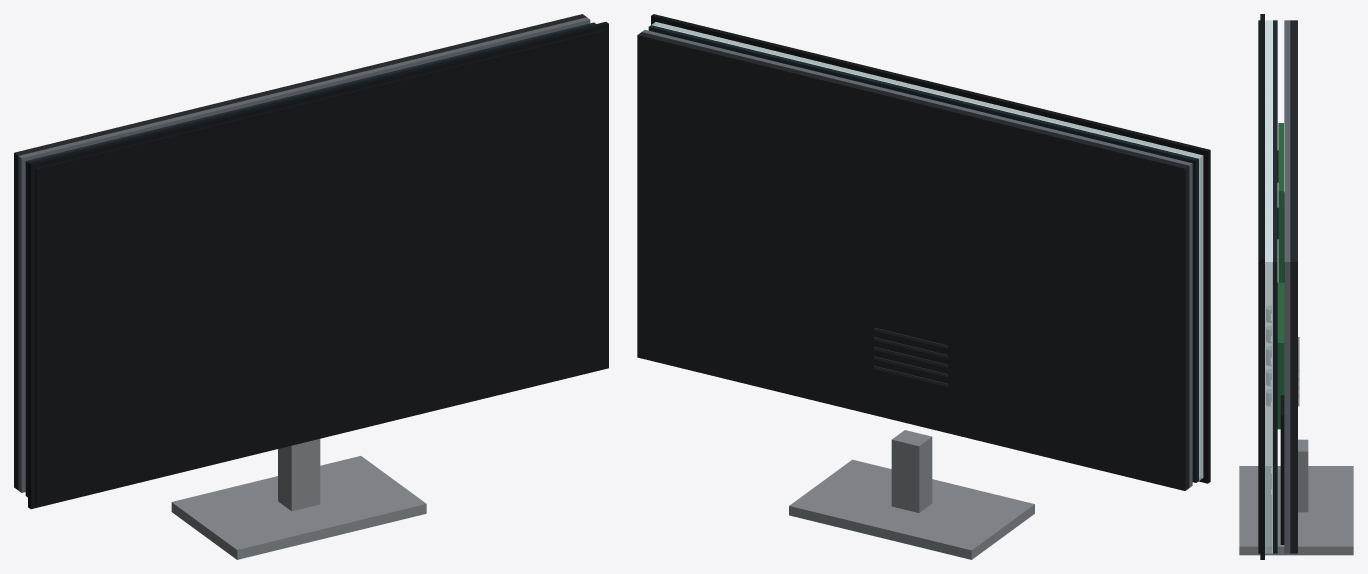
The model's file is asset-object-b51bf42c-6466-4af7-adc4-ec022bda0000-qled-tv-exploded (2).glb.
3 renders of one model, left to right at view 1: azimuth 30°, elevation 25°; view 2: azimuth 150°, elevation 25°; view 3: azimuth 270°, elevation 25°, orthographic. The views are drawn at different scales.
Visible parts, largest first — view 1: front_glass, stand_base, bezel_border, chassis_frame, rear_cover, stand_neck, led_backlight_pcb; view 2: rear_cover, stand_base, bezel_border, led_backlight_pcb, diffuser_sheet, light_guide_plate, chassis_frame, stand_neck, reflector_sheet; view 3: stand_base, rear_cover, light_guide_plate, chassis_frame, bezel_border, led_backlight_pcb, front_glass, power_supply_board, main_logic_board, stand_neck, speaker_grille, diffuser_sheet (+1 smaller).
Part boxes in pixels (<box>): front_glass: <box>35,30,605,503</box>; stand_base: <box>171,456,426,559</box>; bezel_border: <box>28,22,608,509</box>; chassis_frame: <box>18,17,590,492</box>; rear_cover: <box>14,14,586,489</box>; stand_neck: <box>278,439,320,511</box>; led_backlight_pcb: <box>25,22,595,497</box>; rear_cover: <box>637,32,1189,490</box>; stand_base: <box>789,459,1034,559</box>; bezel_border: <box>651,14,1210,483</box>; led_backlight_pcb: <box>648,25,1198,482</box>; diffuser_sheet: <box>655,22,1203,477</box>; light_guide_plate: <box>652,22,1202,480</box>; chassis_frame: <box>642,30,1192,487</box>; stand_neck: <box>891,430,932,512</box>; reflector_sheet: <box>651,24,1199,480</box>; stand_base: <box>1239,466,1353,555</box>; rear_cover: <box>1290,20,1297,553</box>; light_guide_plate: <box>1265,20,1271,553</box>; chassis_frame: <box>1284,20,1290,553</box>; bezel_border: <box>1260,14,1264,559</box>; led_backlight_pcb: <box>1273,20,1277,553</box>; front_glass: <box>1258,20,1260,553</box>; power_supply_board: <box>1277,282,1284,429</box>; main_logic_board: <box>1278,123,1283,282</box>; stand_neck: <box>1298,439,1308,512</box>; speaker_grille: <box>1280,395,1284,544</box>; diffuser_sheet: <box>1265,20,1265,553</box>.
Size of what is drawn, in the model's own units: 1.22 by 0.875 by 0.24.
